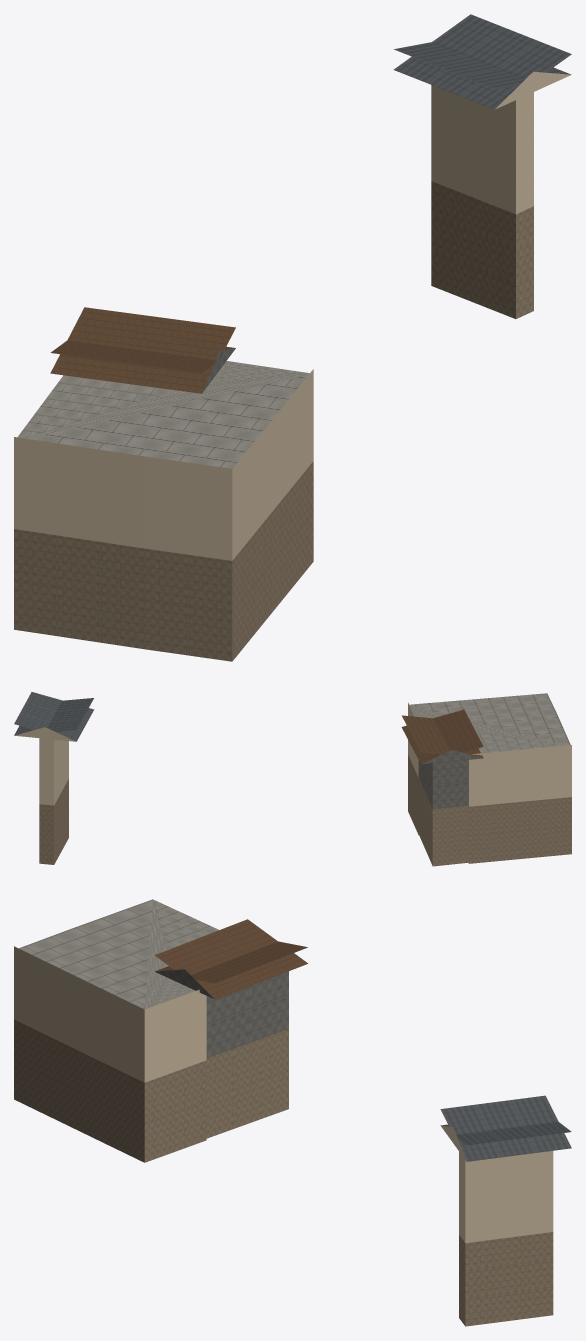
File: bld_c9_19_425.gltf
3 renders of one model, top to bottom at view 1: azimuth 30°, elevation 25°; view 2: azimuth 150°, elevation 25°; view 3: azimuth 270°, elevation 25°, orthographic. The views are drawn at different scales.
Visible parts, largest first — view 1: bld_c9_19_425; view 2: bld_c9_19_425; view 3: bld_c9_19_425.
Boxes of the visible parts, bbox=[...] form: bld_c9_19_425: bbox=[14, 14, 571, 661]; bld_c9_19_425: bbox=[14, 692, 571, 866]; bld_c9_19_425: bbox=[14, 899, 571, 1326].
Size of the model in its own units: 38.45 by 12 by 30.95.
Materials: 8 (8 with a texture image).
